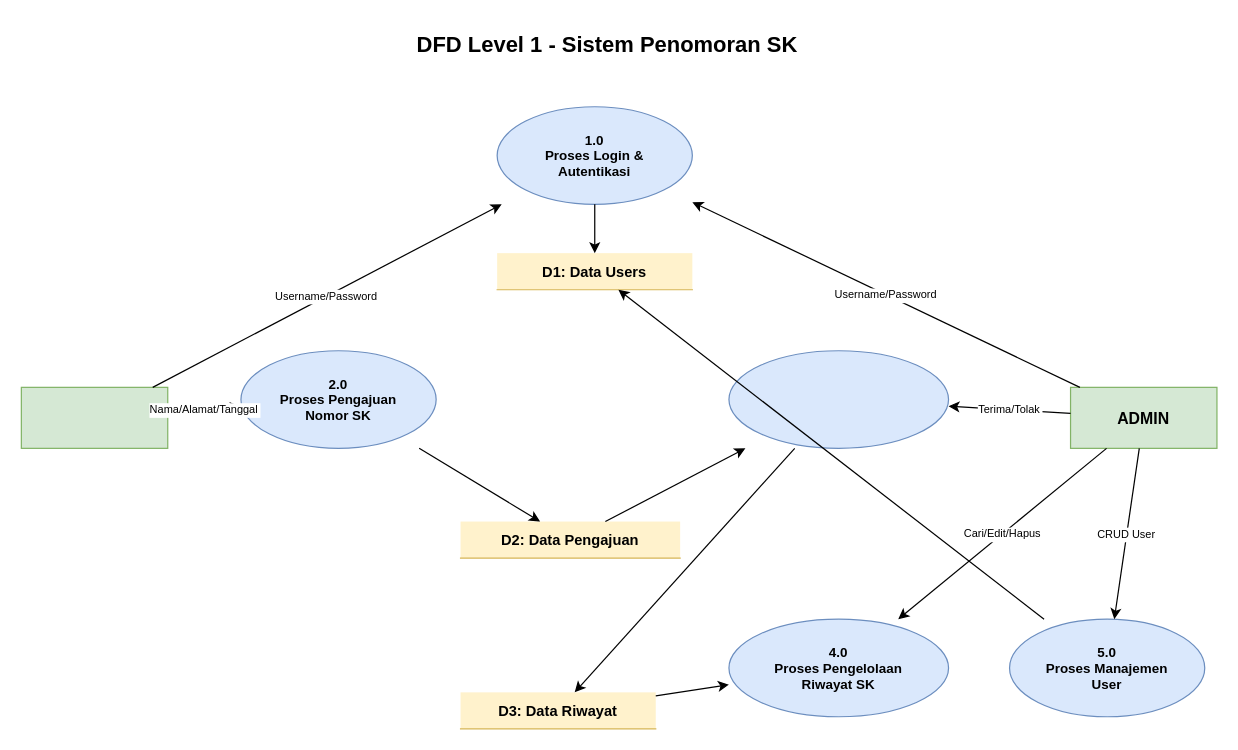
This 1238x750 diagram has some shape labels left out. The centre of each missing label's shape, as x and y in pixels:
"3.0 Proses Verifikasi & Pemberian Nomor" goes at point (838, 399).
"PETUGAS" goes at point (94, 417).
